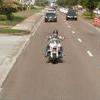Motorcycle: (40, 26, 65, 66)
